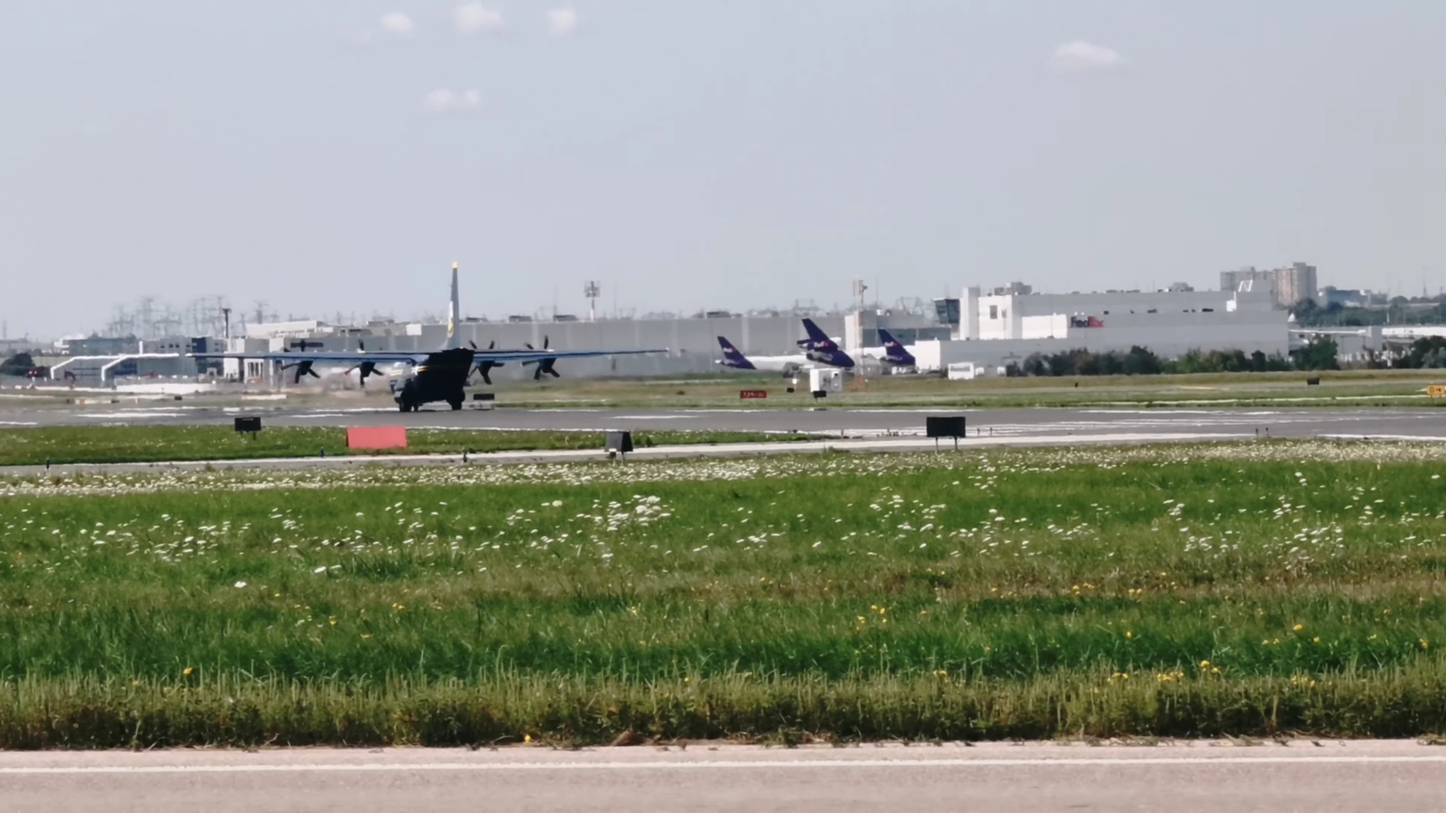airplane: (177, 253, 680, 423)
